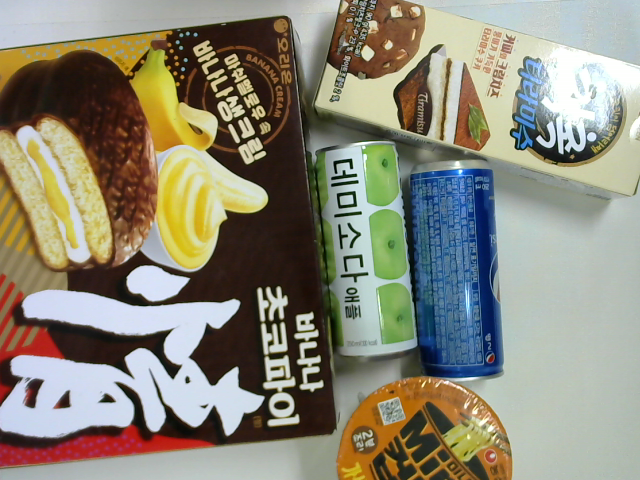Chicchok_Tiramisu: (310, 1, 640, 207)
Choco_Pie_Banana: (1, 14, 341, 471)
Demisoda_Apple_Can_250ml: (317, 138, 418, 361)
Pepsi_Cola_Can_250ml: (407, 157, 508, 380)
Udongmini: (334, 375, 516, 480)
